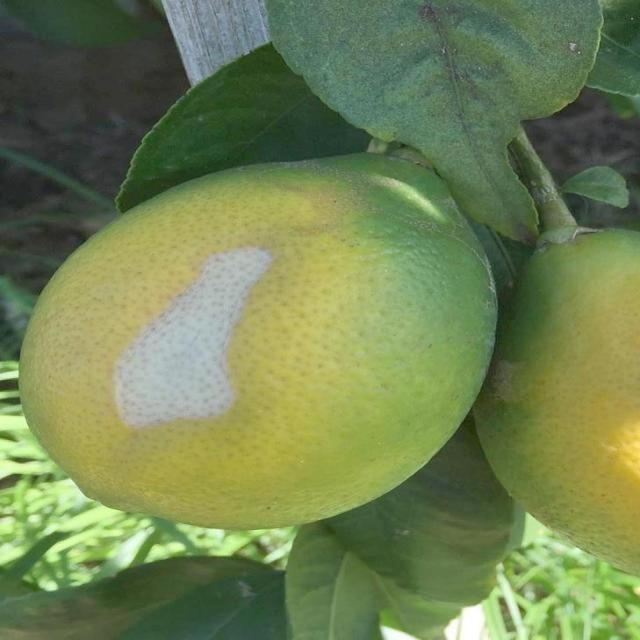Sunscald Fruit: (75, 159, 196, 290)
